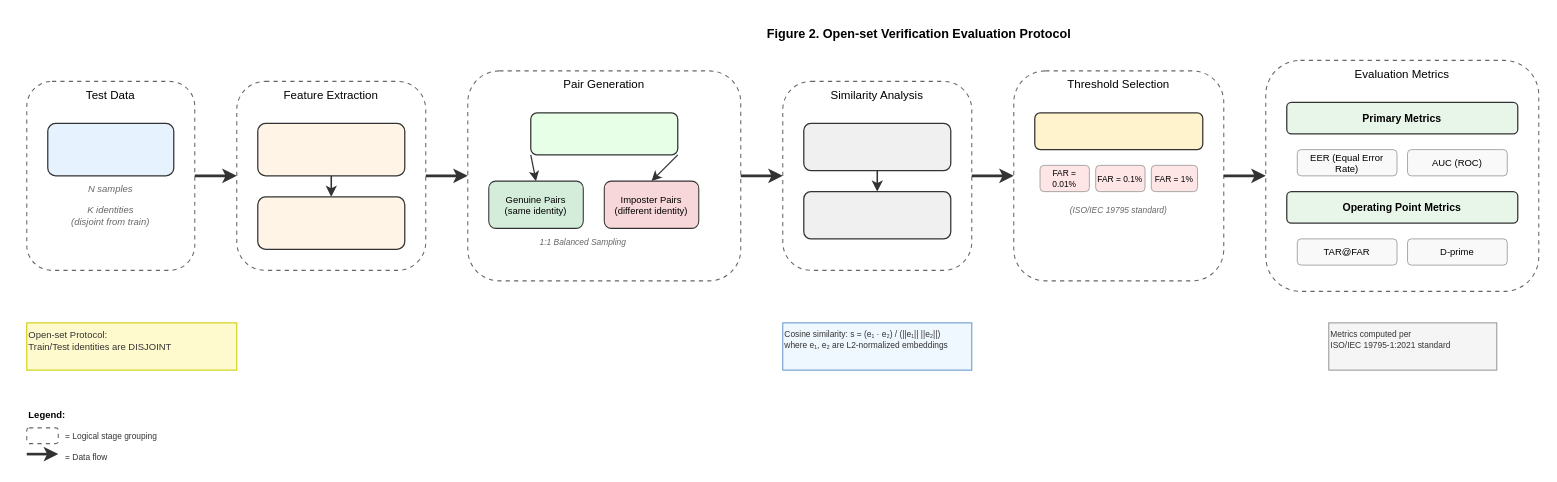
The diagram is 1557 pixels wide and 482 high, and some of its shapes have lost their labels. Each missing label, with the centre of its shape:
Cosine Similarity: [877,146]
Embedding Extraction (1024-d, L2-norm): [331,222]
Frozen Model (See Fig. 1): [331,149]
Operating Points: [1118,131]
Pair Construction: [604,133]
Score Distribution: [877,214]
Test Set (Unseen Identities): [110,149]
